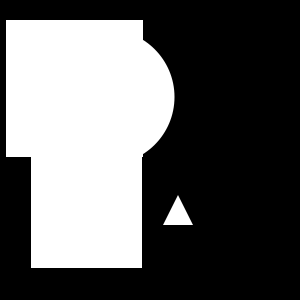circle: (6, 20, 143, 157), (31, 157, 142, 268)
rectangle: (40, 29, 174, 164)
triangle: (163, 195, 193, 225)
